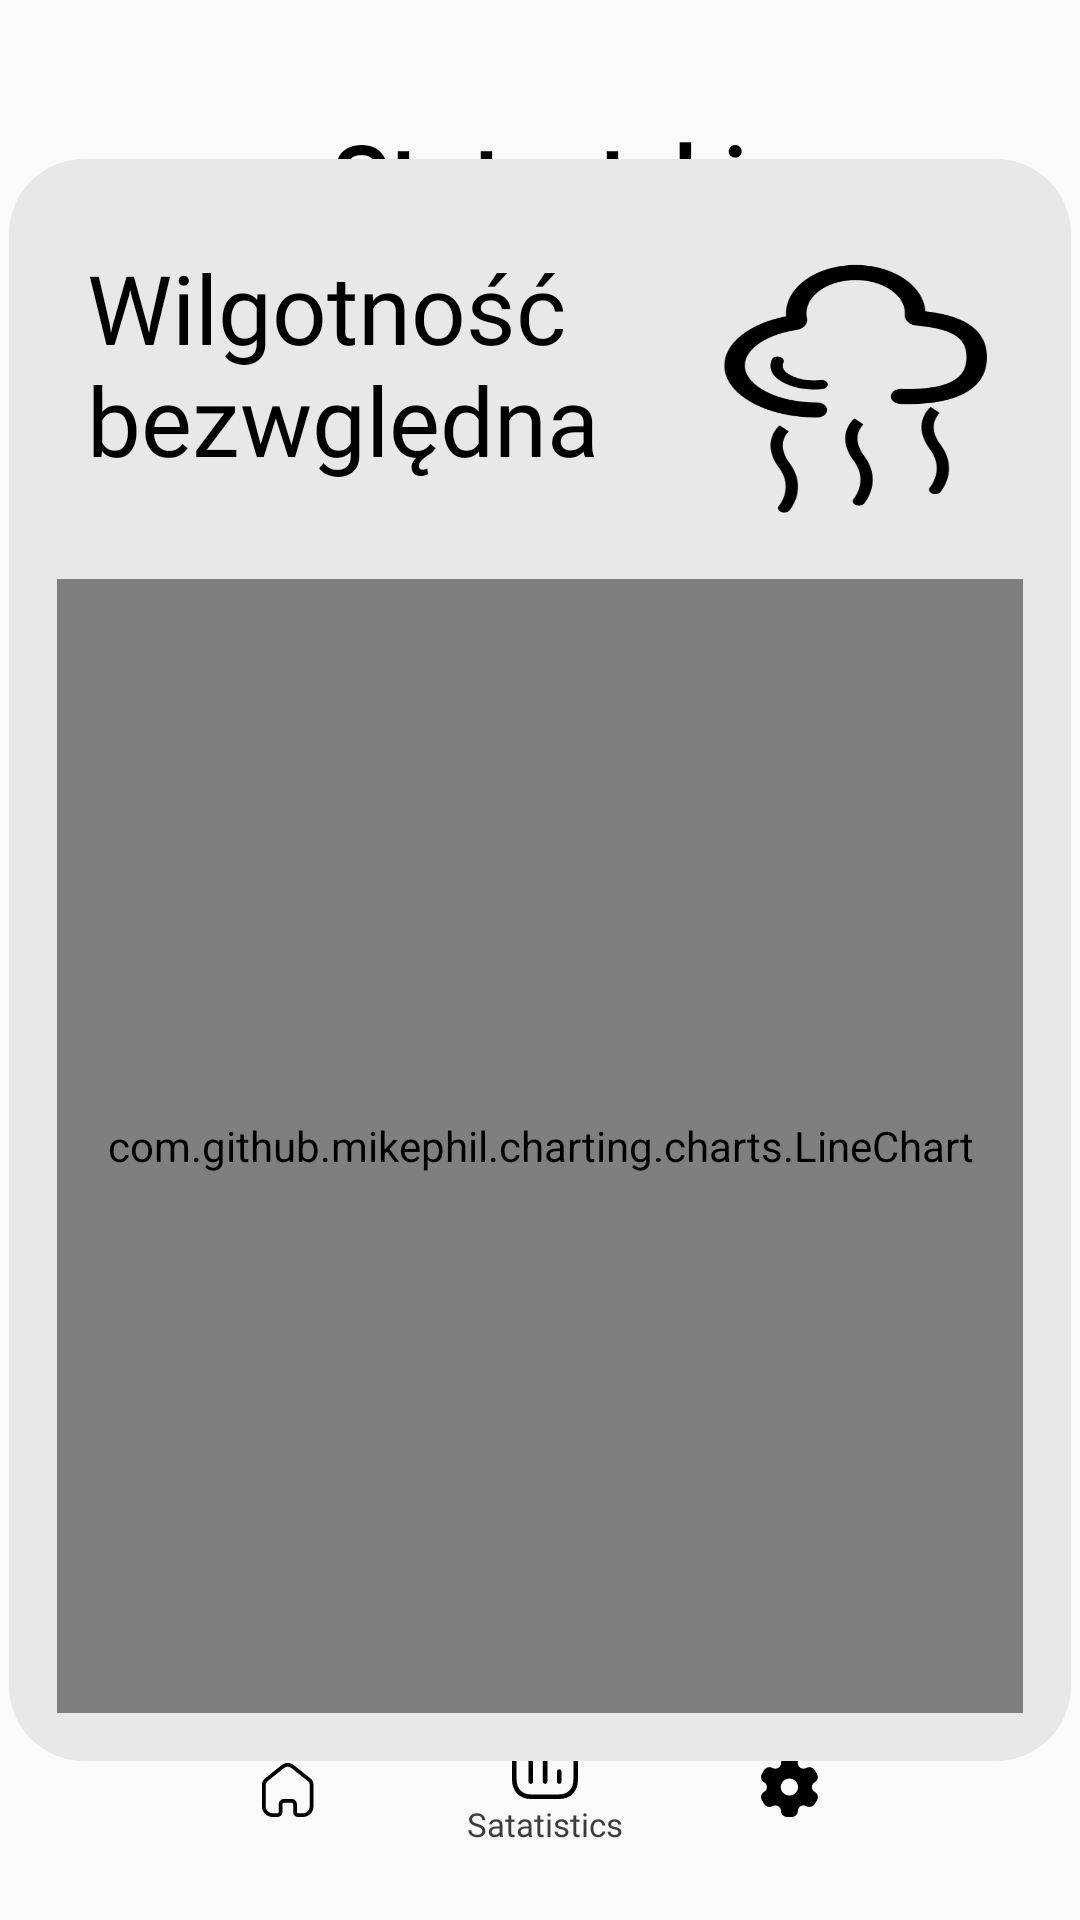

Where to tap for icons on this 1080px x 1920px app screen, as point (x, y):
home: point (288, 1790)
settings: point (789, 1789)
